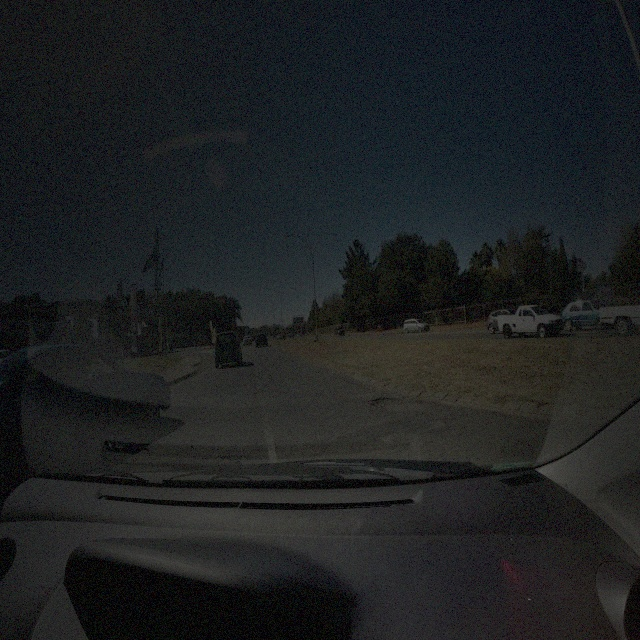pothole: (370, 395, 396, 407)
